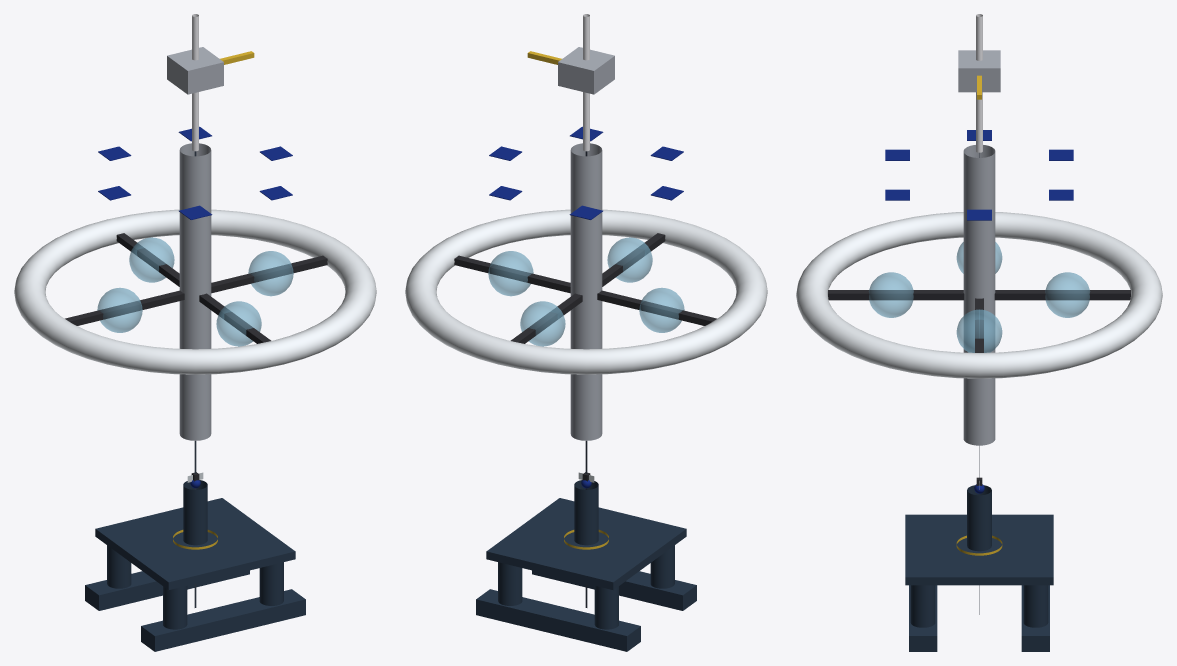
Rendered from Space_Elevator_Master_Showcase_Complete.obj.
3 renders of one model, left to right at view 1: azimuth 30°, elevation 25°; view 2: azimuth 150°, elevation 25°; view 3: azimuth 270°, elevation 25°, orthographic.
Visible parts, largest first — view 1: Marine_Steel, Torus_Hab_White, Titanium_Core, Biosphere_Glass, Composite_Chassis, Photovoltaic_Blue, Thermal_White; view 2: Marine_Steel, Torus_Hab_White, Titanium_Core, Biosphere_Glass, Composite_Chassis, Photovoltaic_Blue, Thermal_White; view 3: Torus_Hab_White, Marine_Steel, Titanium_Core, Biosphere_Glass, Composite_Chassis, Photovoltaic_Blue, Thermal_White.
Boxes of the visible parts, box(x1,y1,x2,y2) form: Marine_Steel: box(85, 480, 305, 651); Torus_Hab_White: box(14, 209, 376, 374); Titanium_Core: box(167, 47, 223, 440); Biosphere_Glass: box(97, 237, 293, 346); Composite_Chassis: box(65, 233, 327, 481); Photovoltaic_Blue: box(98, 126, 292, 488); Thermal_White: box(192, 14, 198, 151); Marine_Steel: box(476, 480, 696, 651); Torus_Hab_White: box(405, 209, 767, 374); Titanium_Core: box(558, 47, 614, 440); Biosphere_Glass: box(488, 237, 684, 346); Composite_Chassis: box(454, 233, 716, 481); Photovoltaic_Blue: box(489, 126, 683, 488); Thermal_White: box(583, 14, 589, 151); Torus_Hab_White: box(796, 212, 1162, 378); Marine_Steel: box(905, 485, 1053, 651); Titanium_Core: box(958, 50, 1000, 445); Biosphere_Glass: box(869, 242, 1089, 352); Composite_Chassis: box(828, 290, 1130, 485); Photovoltaic_Blue: box(885, 130, 1073, 493); Thermal_White: box(976, 14, 982, 152).
Size of the model in its own units: 208 by 375 by 208.
